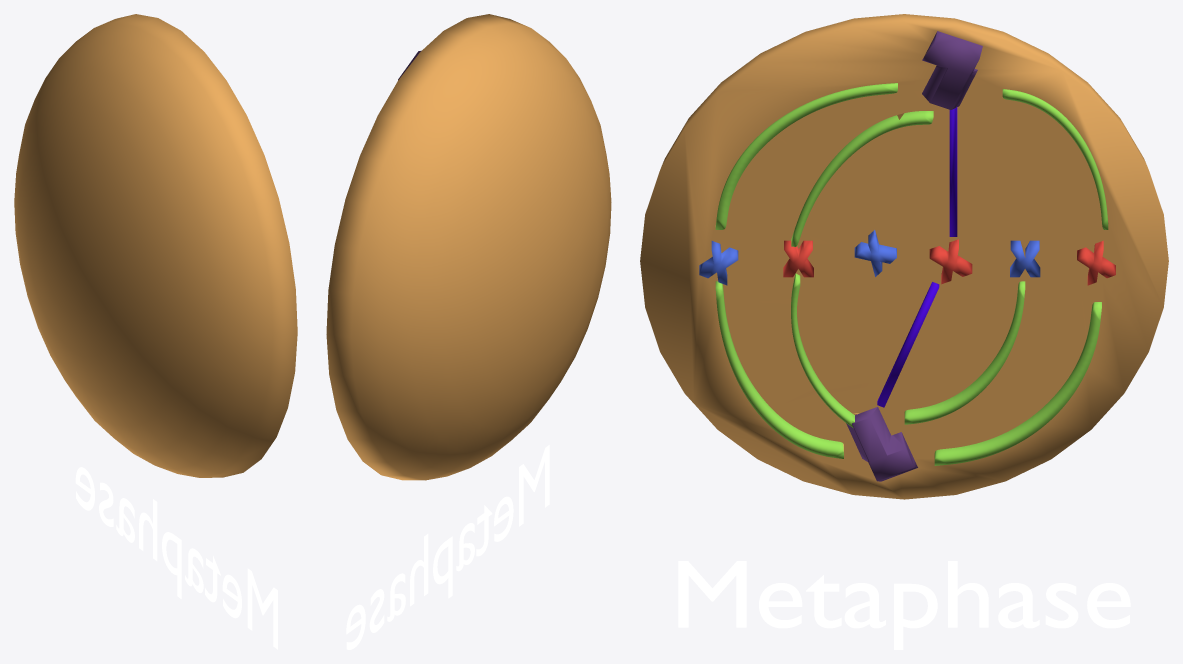
File: Metaphase_1.glb
3 renders of one model, left to right at view 1: azimuth 30°, elevation 25°; view 2: azimuth 150°, elevation 25°; view 3: azimuth 270°, elevation 25°, orthographic. The views are drawn at different scales.
Parts seen in each view (by area): view 1: Text.001; view 2: Text.001; view 3: Text.001.
Boxes of the visible parts, x1,y1,x2,y2 form: Text.001: (14,14,297,649); Text.001: (326,14,611,649); Text.001: (640,14,1168,649).
Bounding box in the file's own units: 1.59 × 6.46 × 4.92.
